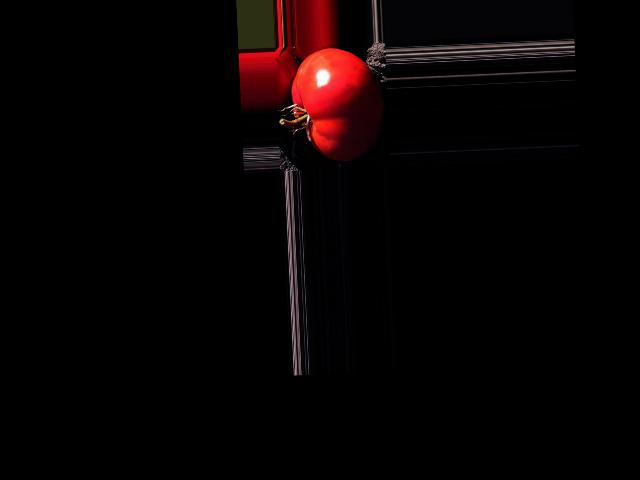tomato: (290, 46, 387, 163)
